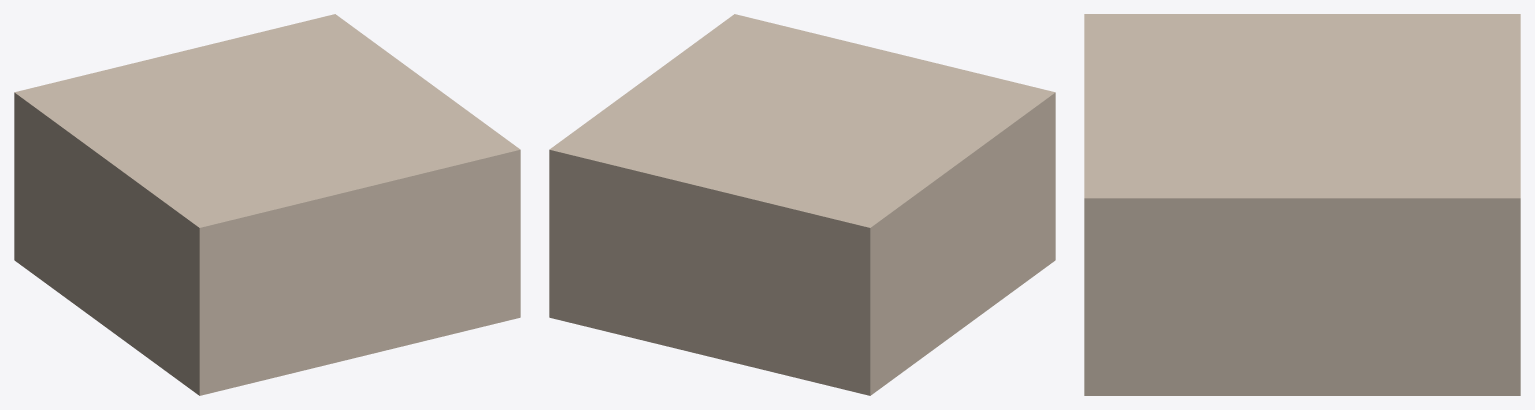
File: Char18-Neck.gltf
3 views of the same model, side by side, from view 1: azimuth 30°, elevation 25°; view 2: azimuth 150°, elevation 25°; view 3: azimuth 270°, elevation 25° (orthographic). The views are drawn at different scales.
Size of the model in its own units: 2 by 1 by 2.
